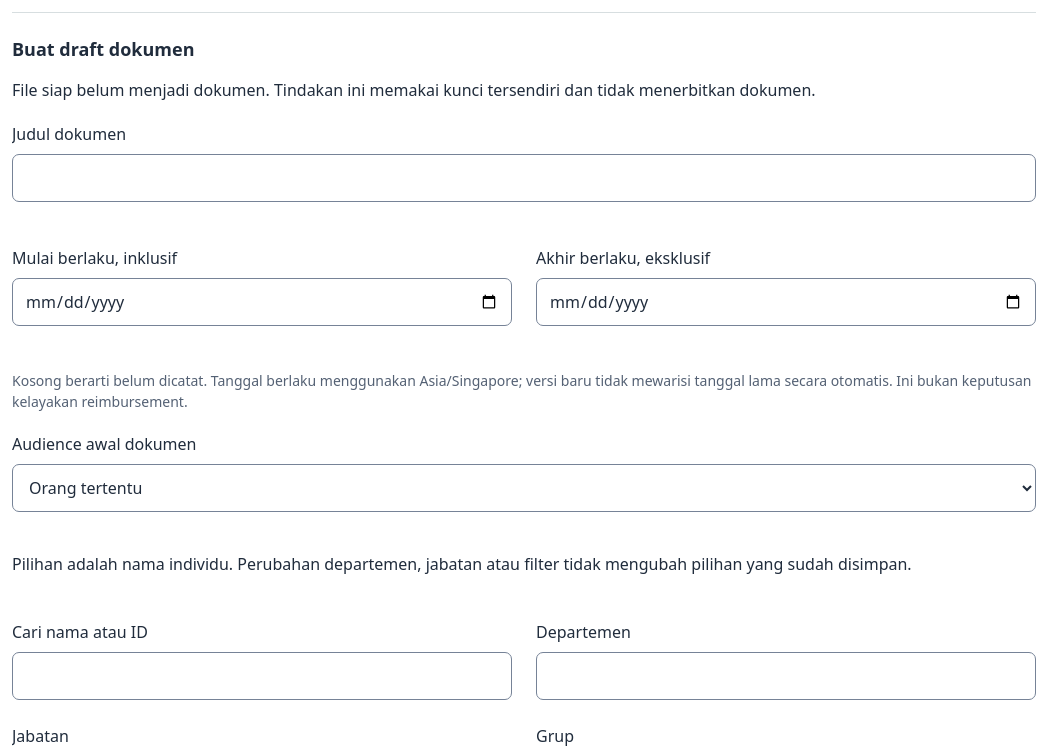
requires server creator review for named initial audience and uses a distinct admission intent from selection creation
Step 1. Type "Judul dokumen lengkap" into the field labelled "Judul dokumen" → (524, 178), box [12,154,1036,202]
(page scrolled)
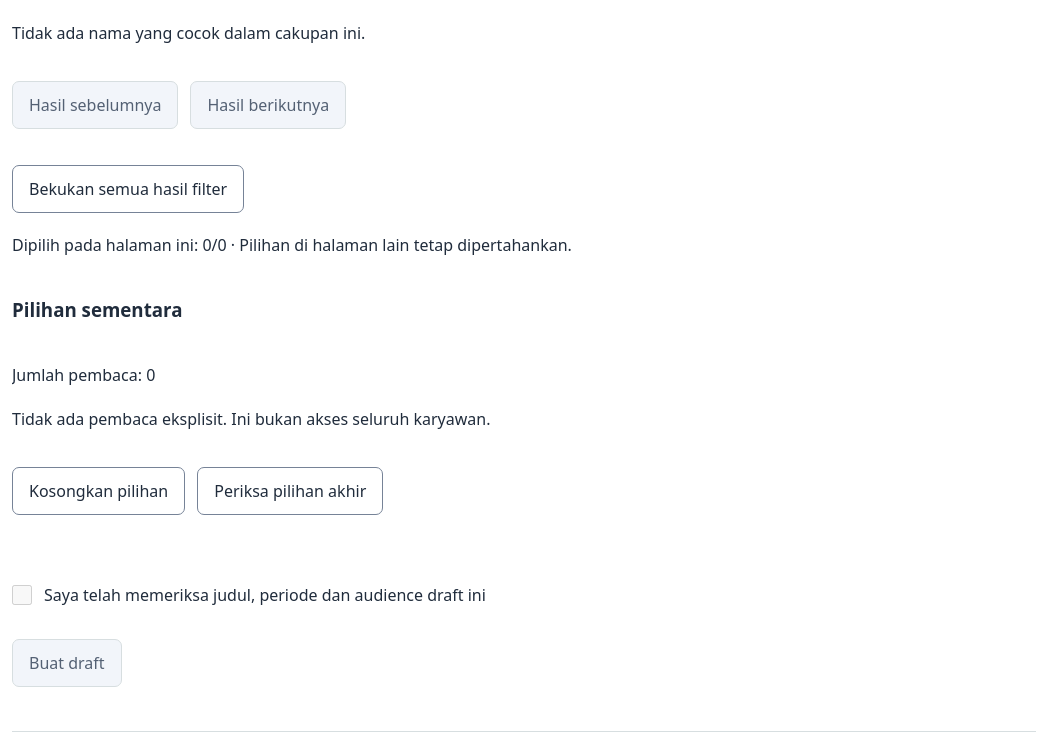
Expected: the button "Buat draft" is disabled, [12,639,122,687]
Step 2. Click the button "Periksa pilihan akhir" → (290, 491), box [197,467,383,515]
(page scrolled)
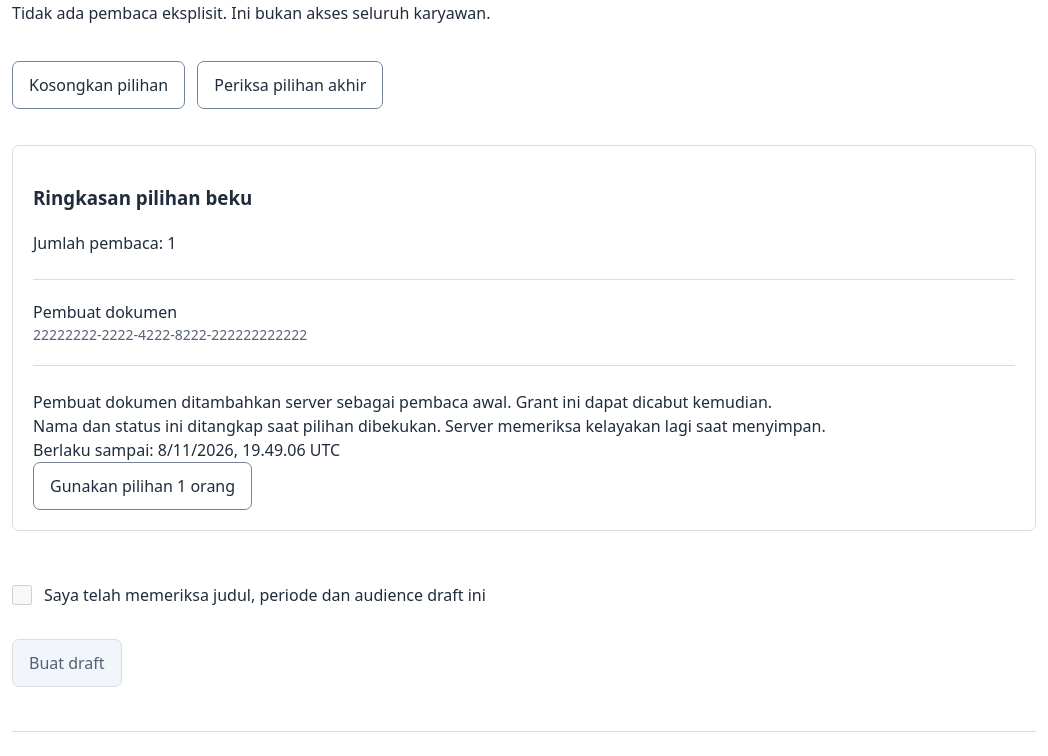
Expected: the text "Pembuat dokumen ditambahkan server sebagai pembaca awal. Grant ini dapat dicabut kemudian." is shown, [33,391,772,413]
Step 3. Click the button "Gunakan pilihan 1 orang" → (143, 486), box [33,462,252,510]
(page scrolled)
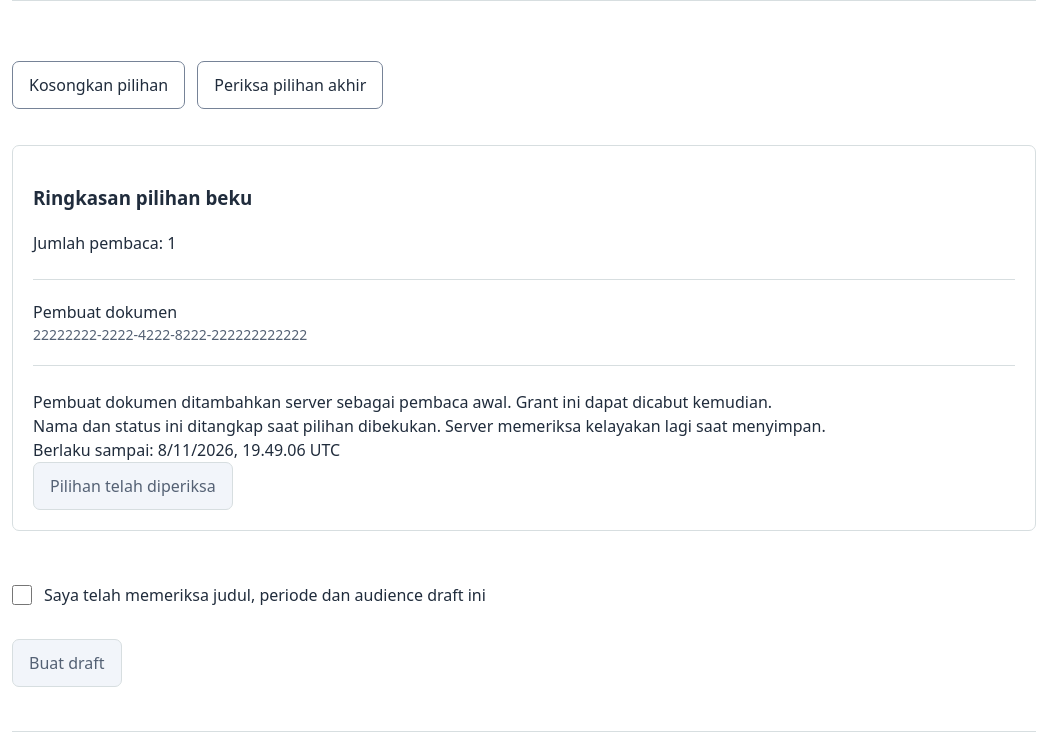
Step 4. Click the checkbox labelled "Saya telah memeriksa judul, periode dan audience draft ini" → (22, 595), box [12,585,32,605]
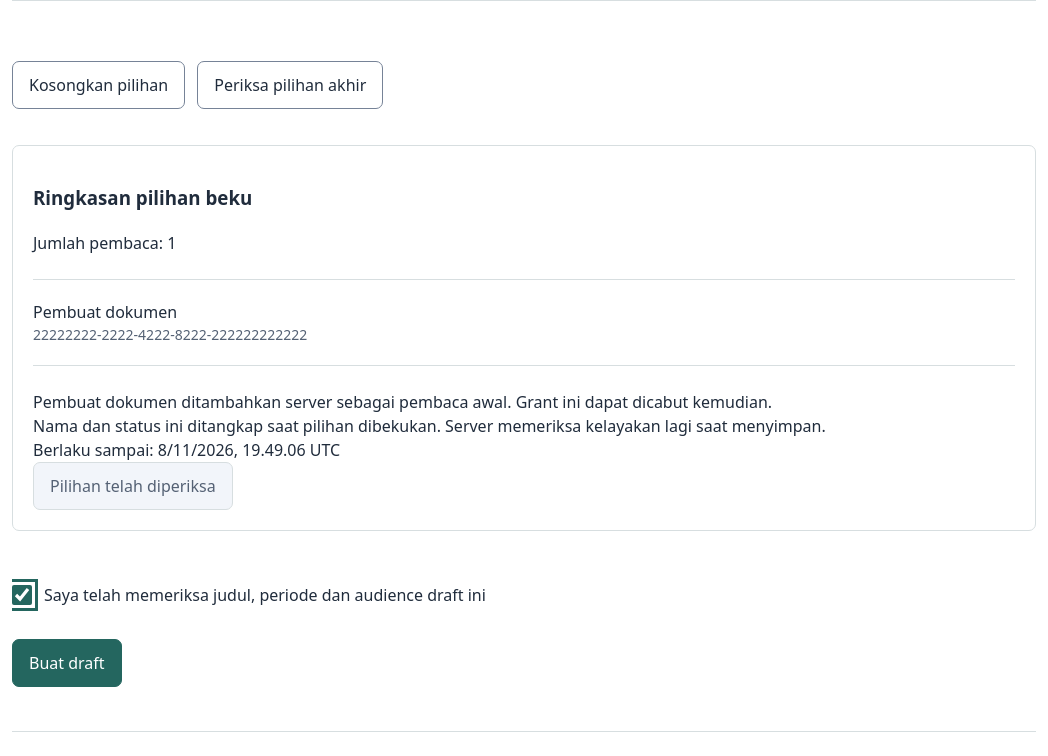
Step 5. Click the button "Buat draft" → (67, 663), box [12,639,122,687]
(page scrolled)
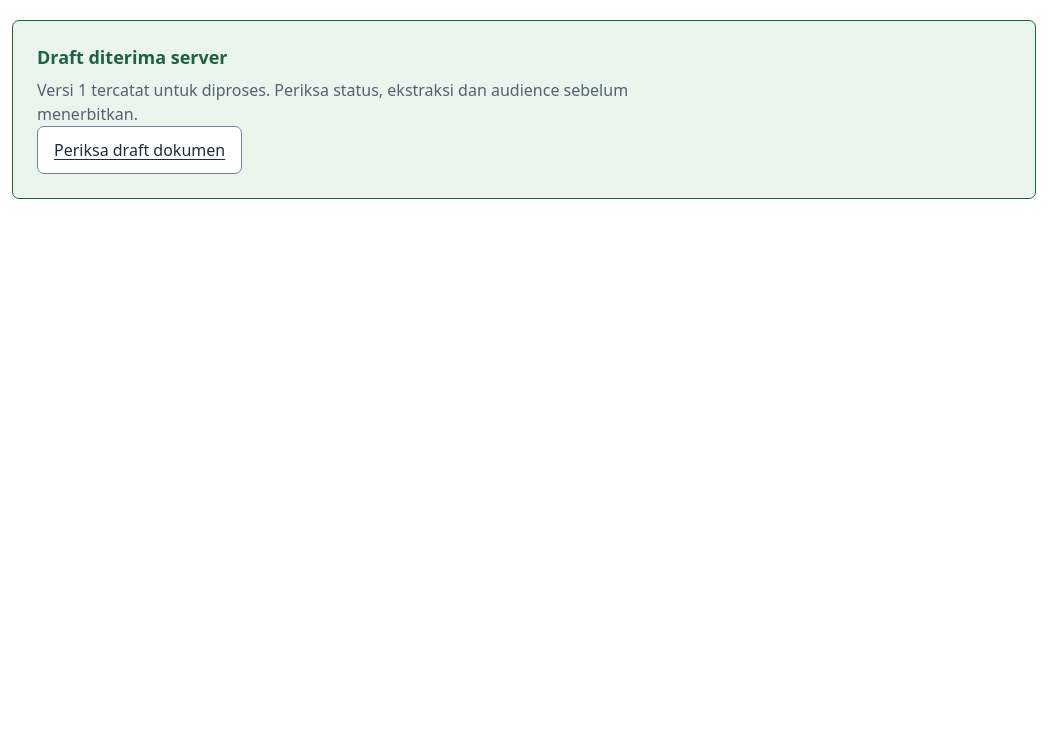
Expected: the heading "Draft diterima server" is shown, [37,45,228,69]
